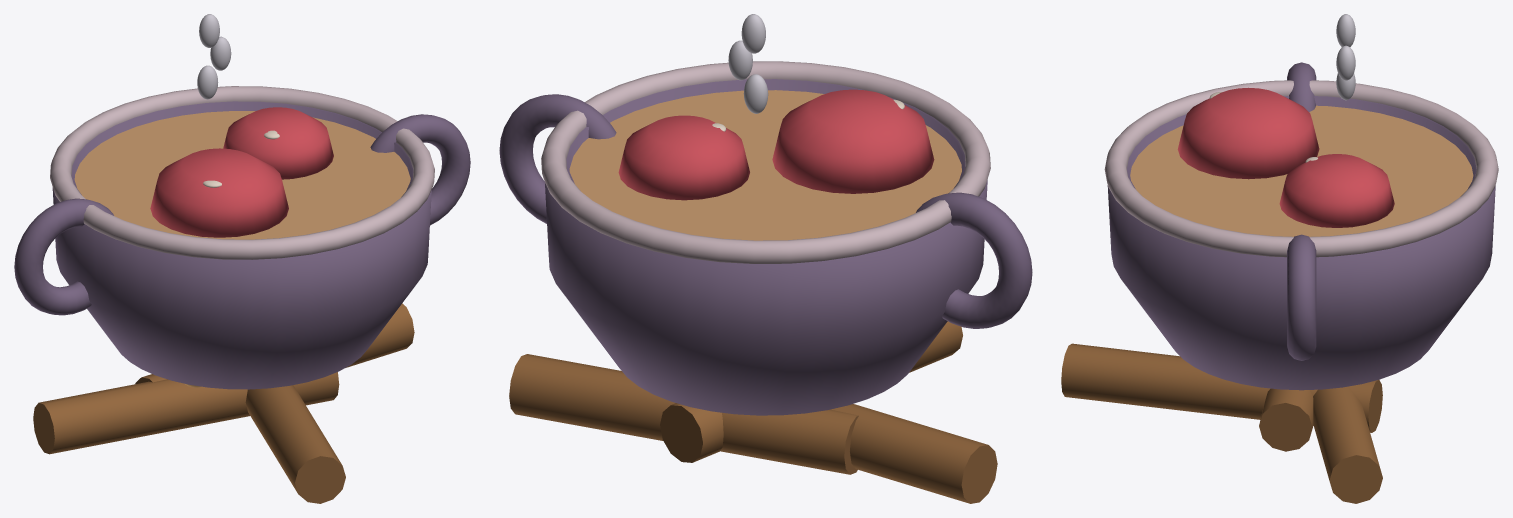
Rendered from stew.glb.
3 renders of one model, left to right at view 1: azimuth 30°, elevation 25°; view 2: azimuth 150°, elevation 25°; view 3: azimuth 270°, elevation 25°, orthographic. The views are drawn at different scales.
Visible parts, largest first — view 1: _pot_pot_handle, _pine-fuel_gentle_heat, _cap-broth_broth, _shroom-caps_cap_spot, _steam_steam; view 2: _pot_pot_handle, _pine-fuel_gentle_heat, _cap-broth_broth, _shroom-caps_cap_spot, _steam_steam; view 3: _pot_pot_handle, _cap-broth_broth, _pine-fuel_gentle_heat, _shroom-caps_cap_spot, _steam_steam.
Part boxes in pixels (x1=…): _pot_pot_handle: x1=14, y1=86, x2=470, y2=389; _pine-fuel_gentle_heat: x1=33, y1=303, x2=414, y2=503; _cap-broth_broth: x1=74, y1=111, x2=410, y2=239; _shroom-caps_cap_spot: x1=150, y1=107, x2=333, y2=237; _steam_steam: x1=197, y1=14, x2=231, y2=99; _pot_pot_handle: x1=499, y1=61, x2=1032, y2=415; _pine-fuel_gentle_heat: x1=509, y1=321, x2=997, y2=503; _cap-broth_broth: x1=569, y1=90, x2=961, y2=240; _shroom-caps_cap_spot: x1=618, y1=89, x2=934, y2=200; _steam_steam: x1=728, y1=14, x2=768, y2=113; _pot_pot_handle: x1=1104, y1=62, x2=1498, y2=390; _cap-broth_broth: x1=1130, y1=105, x2=1473, y2=236; _pine-fuel_gentle_heat: x1=1061, y1=343, x2=1382, y2=503; _shroom-caps_cap_spot: x1=1177, y1=87, x2=1394, y2=227; _steam_steam: x1=1336, y1=14, x2=1355, y2=100.
Bounding box in the file's own units: 1.21 × 0.978 × 0.9882.
